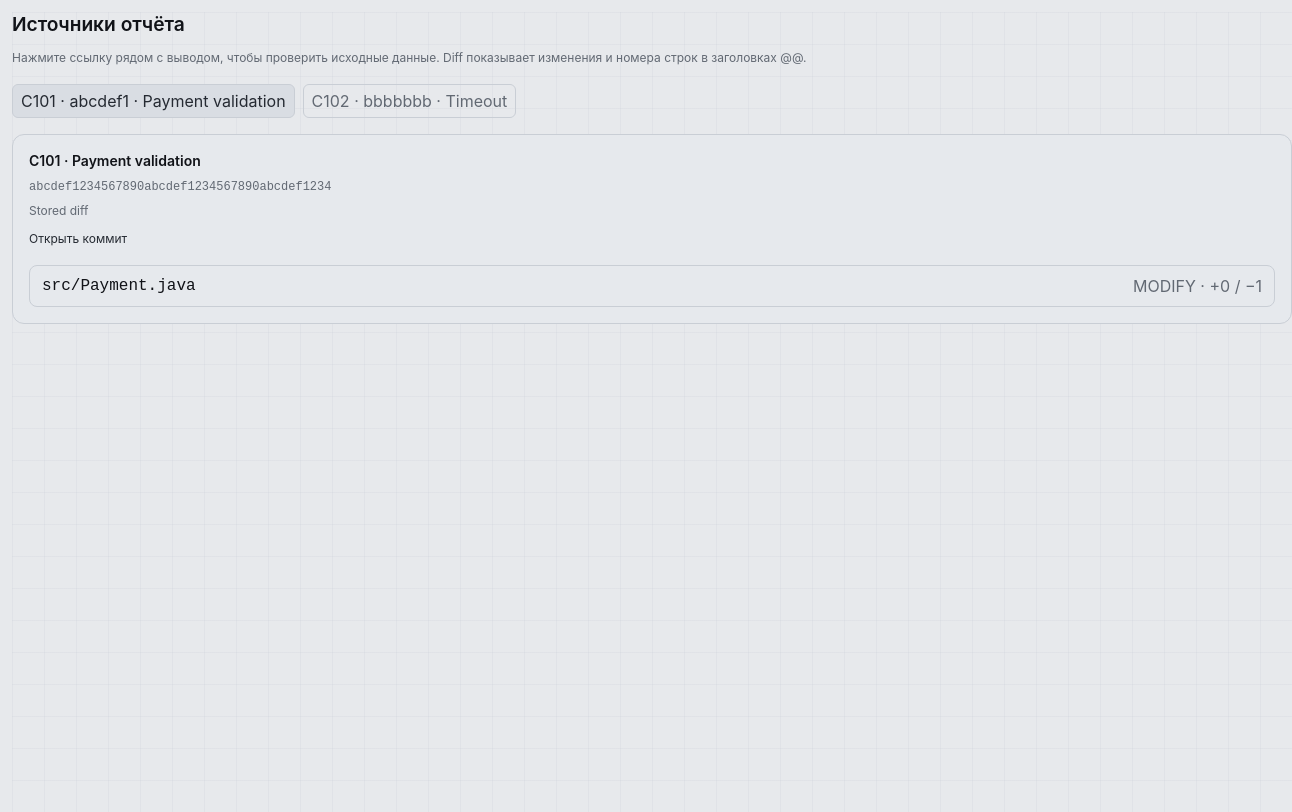
source inspection › fetches the saved diff lazily and displays line coordinates and truncation
This screenshot has width=1292, height=812.
Click the button "src/Payment.java MODIFY · +0 / −1" at (119, 286), box [29, 265, 1275, 307]
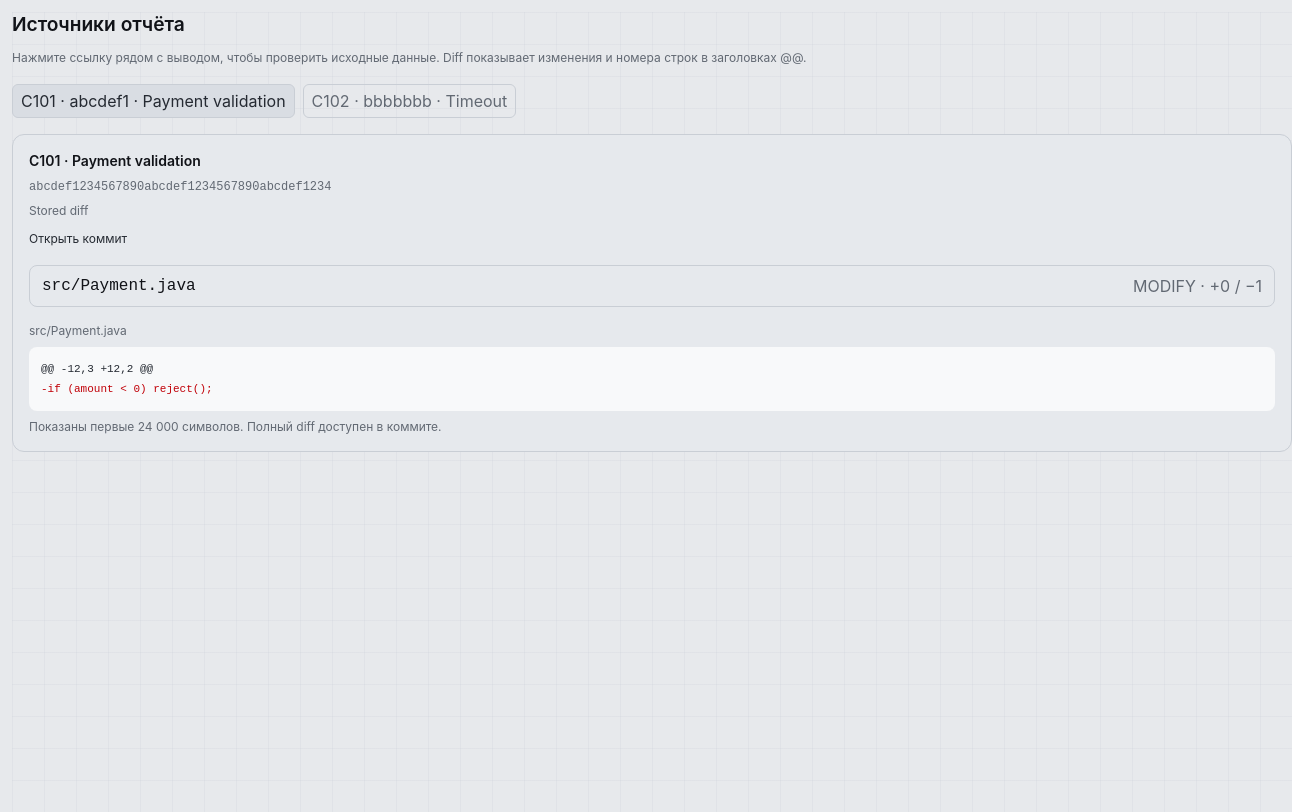
Now the element named "Diff источника" is shown, box [29, 347, 1275, 411]
Now the text "@@ -12,3 +12,2 @@" is shown, box [41, 363, 153, 375]
Now the text "24 000" is shown, box [29, 419, 442, 434]
